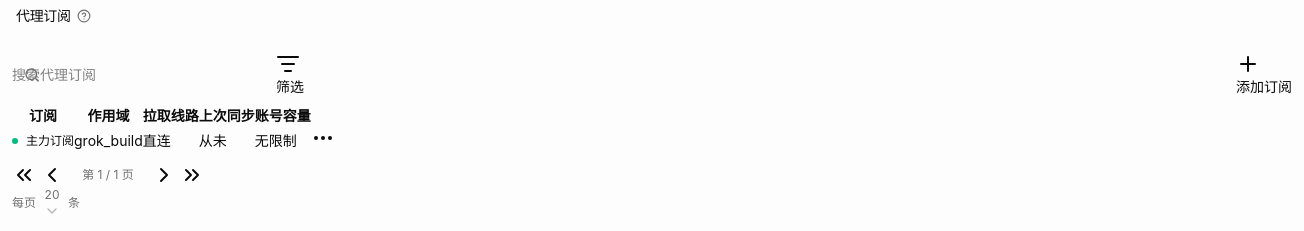
Test: EgressSources 订阅源列表 › 搜索按名称过滤并展示无匹配文案
Expected: the row with test id "egress-source-row-src-1" is shown, [12,126,335,155]
Type "不存在" into the field with test id "egress-sources-search".
click(121, 74); type("不存在")  # box [12,64,230,85]
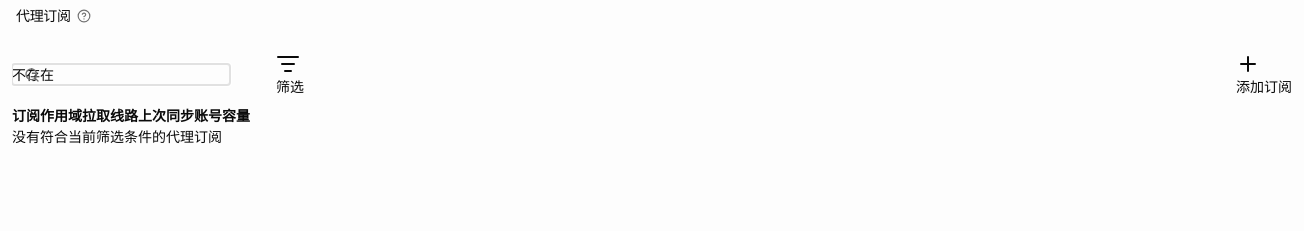
Result: the cell with test id "egress-sources-empty" reads "没有符合当前筛选条件的代理订阅" at [12,128,222,145]
Result: the row with test id "egress-source-row-src-1" is gone
